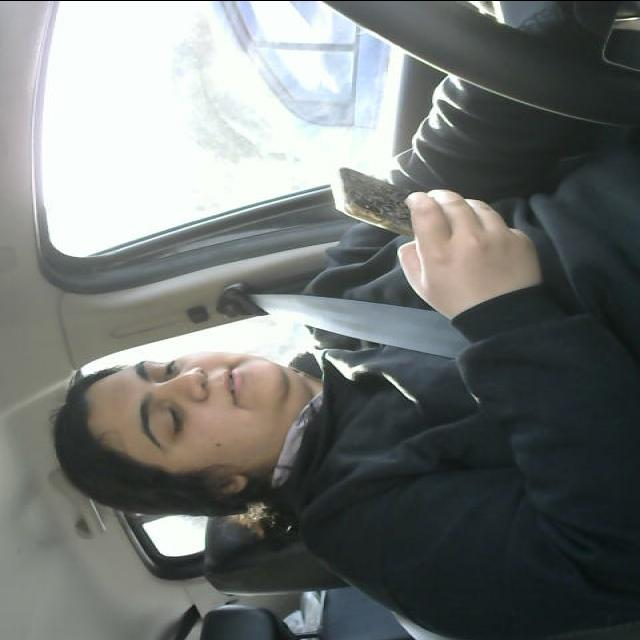mobile use: (326, 157, 421, 235)
